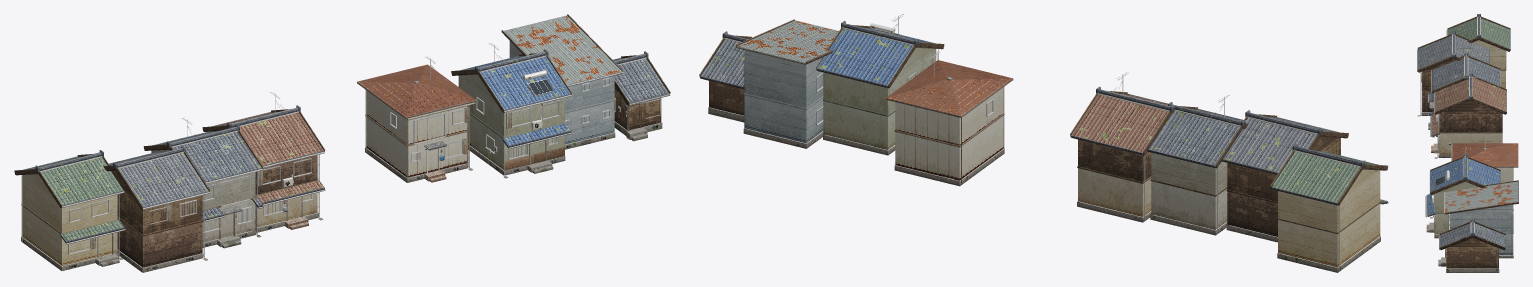
Rendered from lane_near.glb.
3 views of the same model, side by side, from view 1: azimuth 30°, elevation 25°; view 2: azimuth 150°, elevation 25°; view 3: azimuth 270°, elevation 25° (orthographic). The views are drawn at different scales.
Parts seen in each view (by area): view 1: lane_near; view 2: lane_near; view 3: lane_near.
Boxes of the visible parts, x1,y1,x2,y2 form: lane_near: (14, 14, 670, 272); lane_near: (699, 14, 1388, 272); lane_near: (1417, 14, 1518, 272).
Bounding box in the file's own units: 52.16 × 9.17 × 11.27.
Materials: 1 (1 with a texture image).
